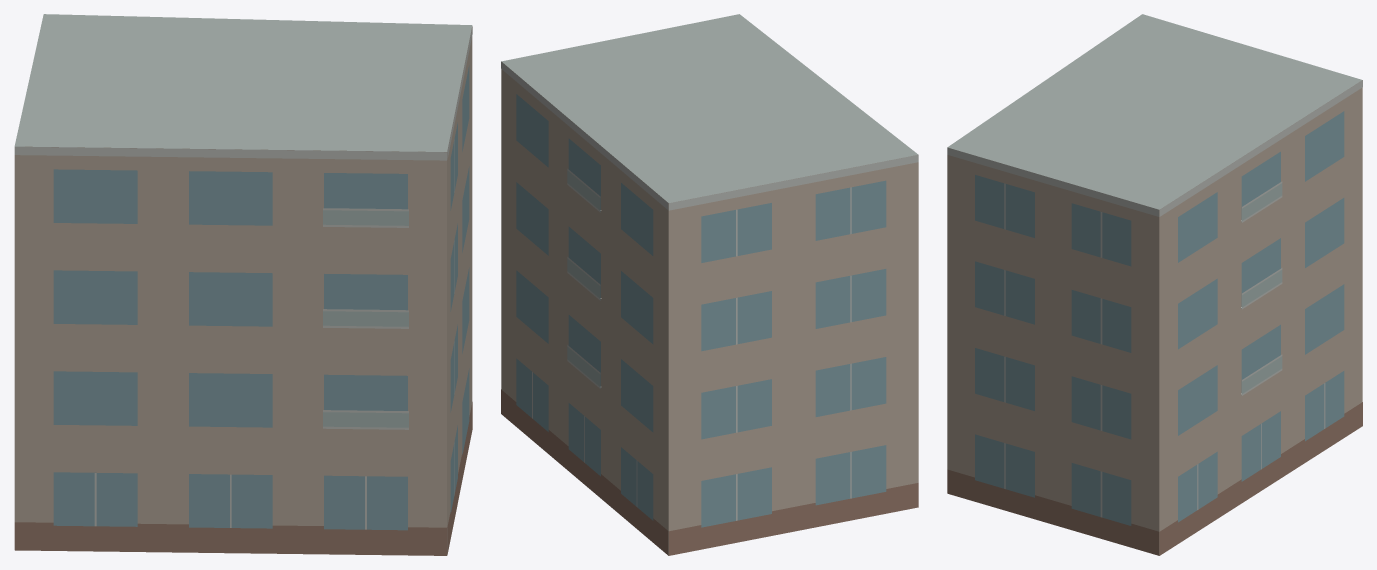
The model's file is survey-upis-32776665.glb.
3 views of the same model, side by side, from view 1: azimuth 30°, elevation 25°; view 2: azimuth 150°, elevation 25°; view 3: azimuth 270°, elevation 25° (orthographic). The views are drawn at different scales.
Parts seen in each view (by area): view 1: survey-upis-32776665.tmp; view 2: survey-upis-32776665.tmp; view 3: survey-upis-32776665.tmp.
Part boxes in pixels (x1=…): survey-upis-32776665.tmp: x1=14, y1=14, x2=472, y2=555; survey-upis-32776665.tmp: x1=501, y1=14, x2=918, y2=555; survey-upis-32776665.tmp: x1=947, y1=14, x2=1362, y2=555.
Bounding box in the file's own units: 14.02 × 11.55 × 12.57.
